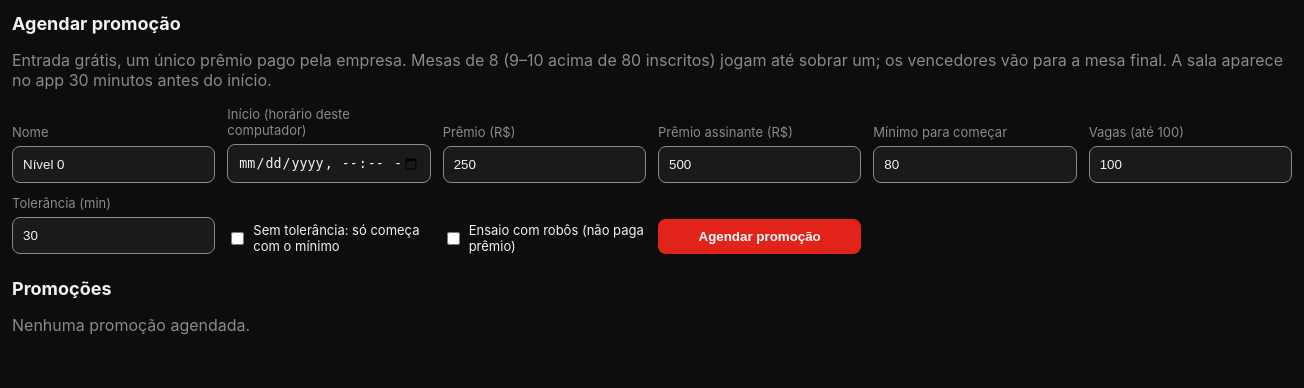
Promotions tab › shows the server's reason when it refuses
expect the text "Nenhuma promoção agendada." is shown: met, box [12,315,250,335]
Type "2099-10-07T20:00" into the field labelled "Início" at (329, 164), box [227,144,431,183]
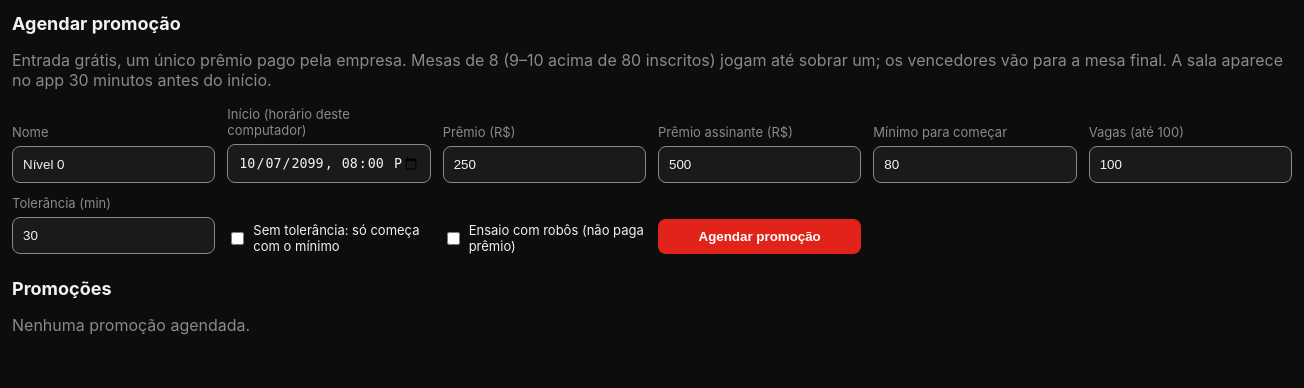
Click the button "Agendar promoção" at (760, 237), box [658,219,861,254]
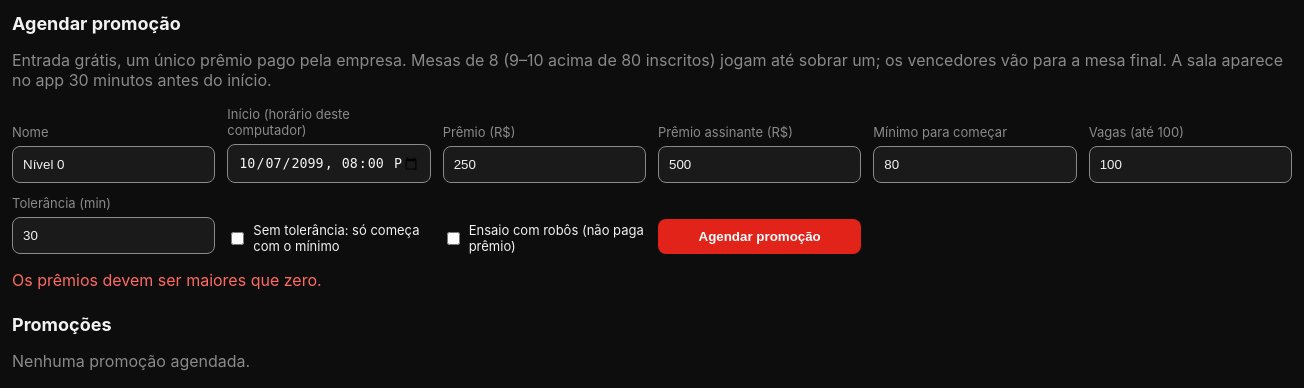
expect the text "Os prêmios devem ser maiores que zero." is shown: met, box [12,270,322,290]
